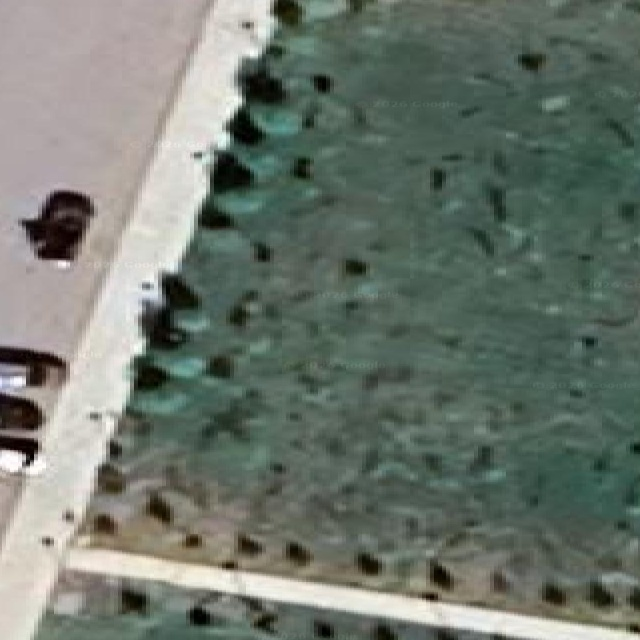car: (22, 190, 93, 267), (0, 347, 66, 391), (0, 435, 45, 475), (0, 393, 43, 430)
